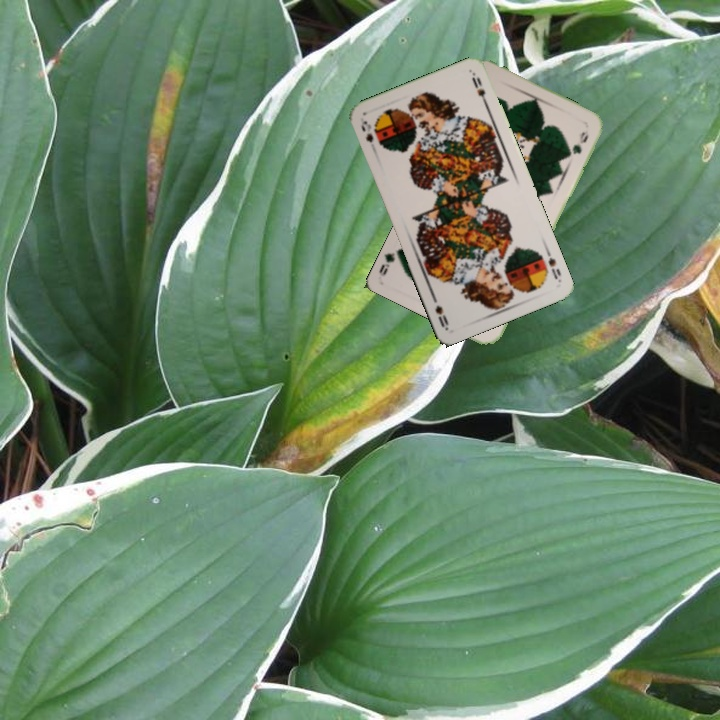SO: (542, 245, 564, 284), (357, 116, 376, 145)
